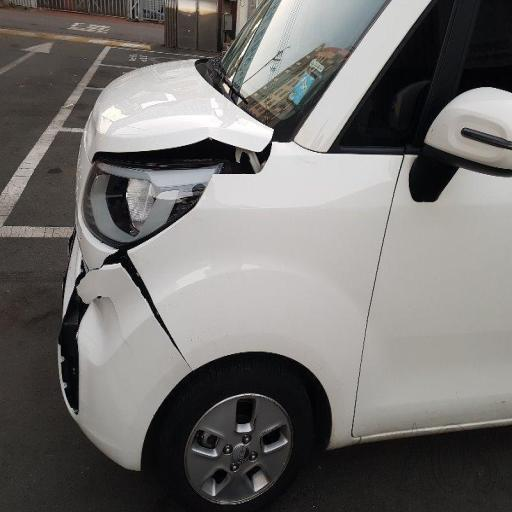broken: (88, 137, 314, 419)
